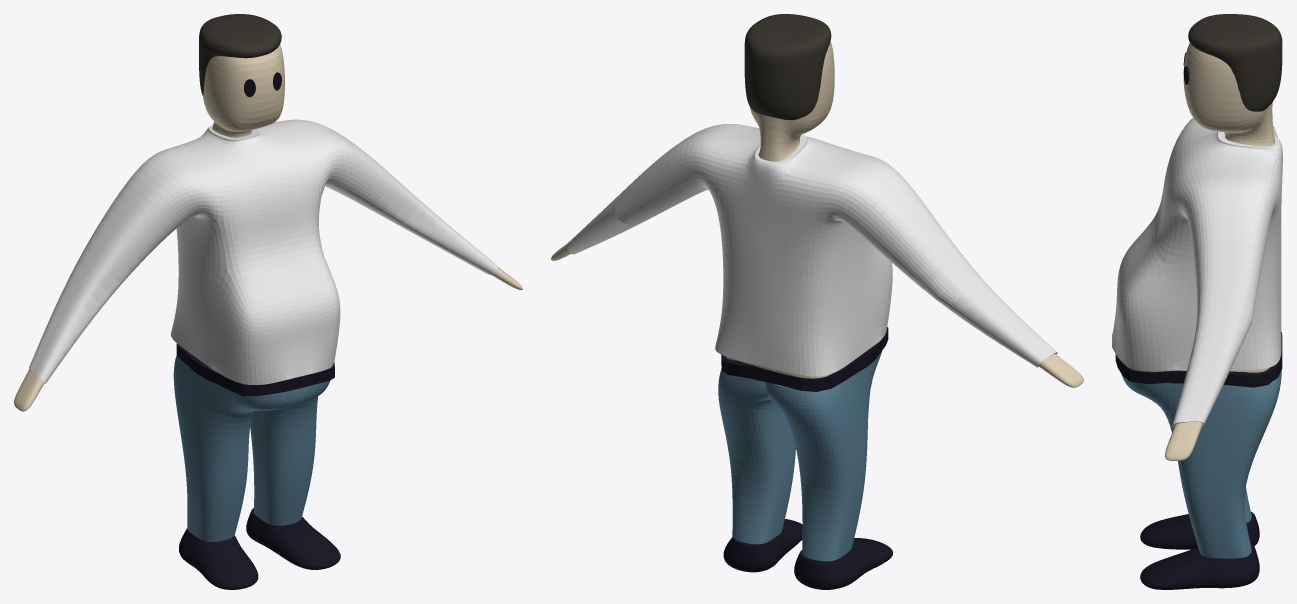
Rendered from Alien Human.fbx.
The picture shows the model from 3 angles, left to right: view 1: azimuth 30°, elevation 25°; view 2: azimuth 150°, elevation 25°; view 3: azimuth 270°, elevation 25°; orthographic projection. The views are drawn at different scales.
Parts seen in each view (by area): view 1: Shirt, Trousers, Body, Shoes, Hair, Belt; view 2: Shirt, Trousers, Hair, Shoes, Body, Belt; view 3: Shirt, Trousers, Body, Hair, Shoes, Belt.
Boxes of the visible parts, x1,y1,x2,y2 form: Shirt: (29, 119, 497, 384); Trousers: (173, 355, 330, 541); Body: (14, 44, 522, 411); Shoes: (179, 508, 340, 589); Hair: (199, 14, 281, 95); Belt: (176, 343, 334, 396); Shirt: (566, 124, 1057, 376); Trousers: (718, 351, 881, 561); Hair: (744, 14, 831, 120); Shoes: (723, 519, 893, 589); Body: (551, 41, 1083, 387); Belt: (721, 327, 888, 391); Shirt: (1112, 118, 1282, 427); Trousers: (1121, 370, 1281, 558); Body: (1125, 42, 1274, 460); Hair: (1188, 14, 1282, 111); Shoes: (1140, 512, 1259, 589); Belt: (1115, 332, 1282, 387).
Bounding box in the file's own units: 744 × 739 × 213.
